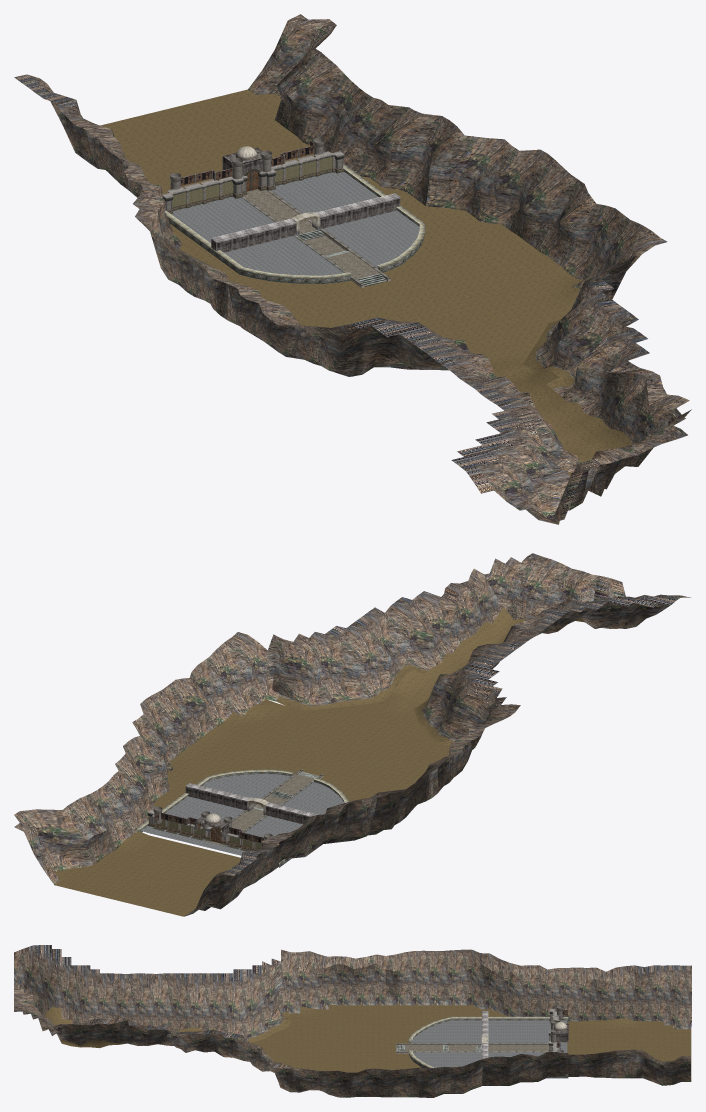
The model's file is stage2_1.fbx.
3 renders of one model, top to bottom at view 1: azimuth 30°, elevation 25°; view 2: azimuth 150°, elevation 25°; view 3: azimuth 270°, elevation 25°, orthographic. The views are drawn at different scales.
Parts seen in each view (by area): view 1: Field2_1; view 2: Field2_1; view 3: Field2_1.
Boxes of the visible parts, x1,y1,x2,y2 form: Field2_1: (14, 14, 691, 524); Field2_1: (14, 553, 690, 916); Field2_1: (14, 945, 691, 1097).
Bounding box in the file's own units: 150 × 25.68 × 355.
